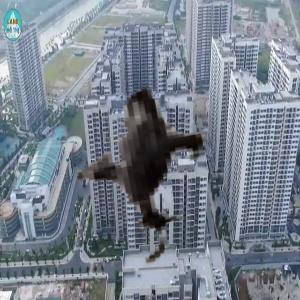drone: (19, 46, 245, 272)
